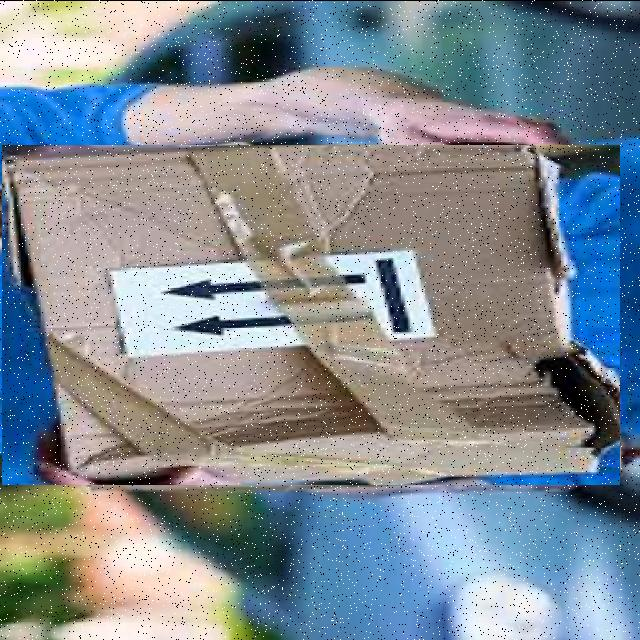defect: (2, 144, 620, 484)
